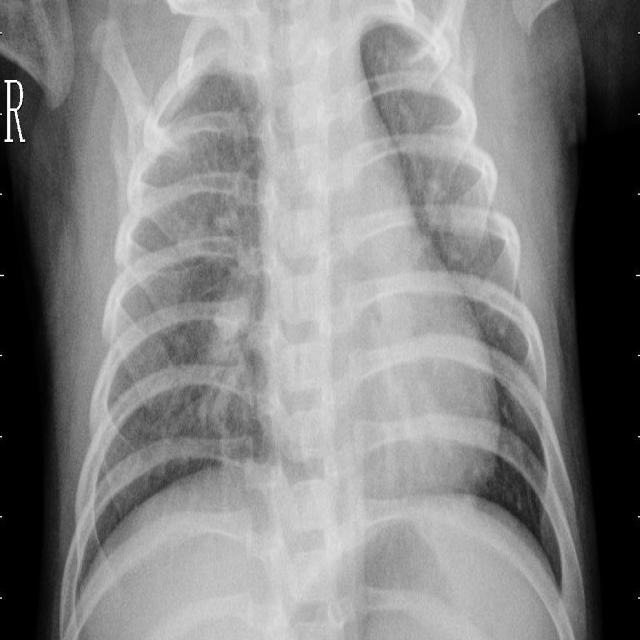low-pneumonia: (198, 113, 265, 330), (197, 286, 261, 429), (422, 134, 492, 257)
